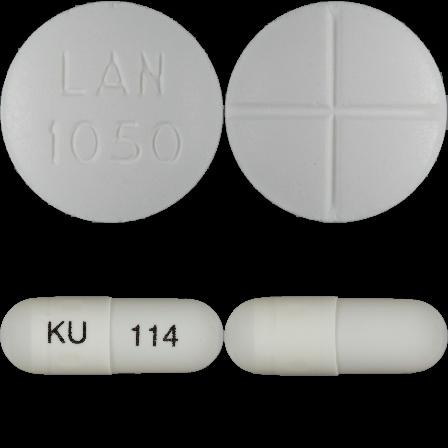68084-541: (0, 0, 224, 224)
